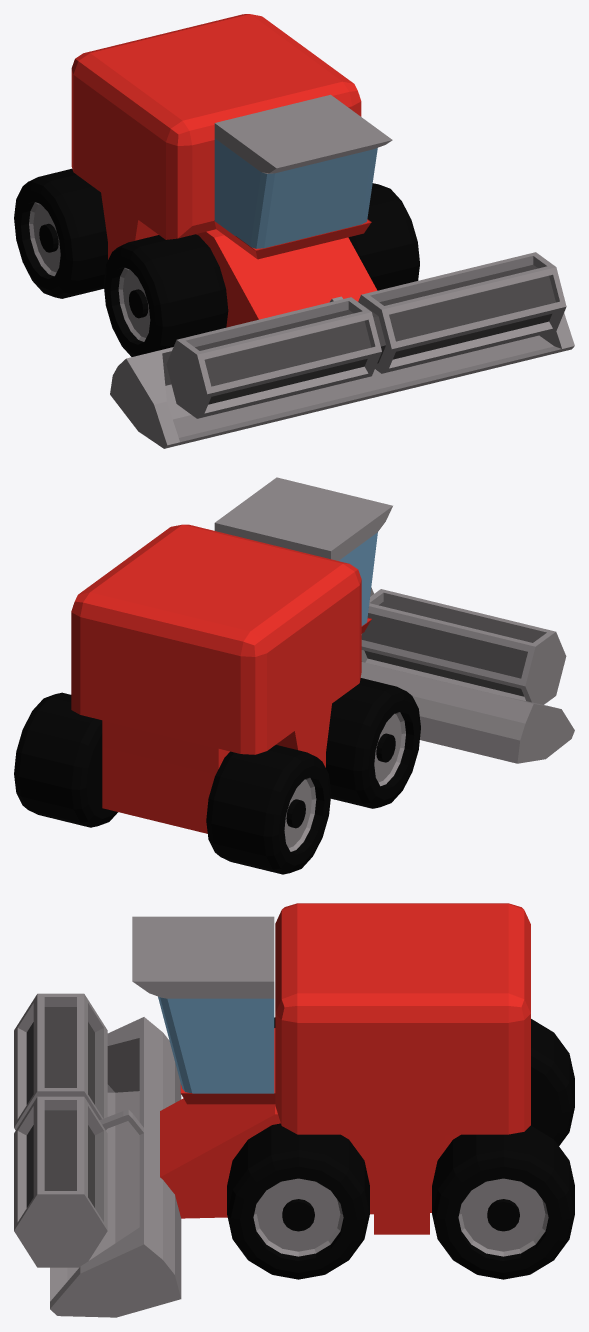
The model's file is combine.fbx.
3 views of the same model, one above another, from view 1: azimuth 30°, elevation 25°; view 2: azimuth 150°, elevation 25°; view 3: azimuth 270°, elevation 25° (orthographic). The views are drawn at different scales.
Visible parts, largest first — view 1: Body, shnek, wheel2, wheel4, wheel1; view 2: Body, shnek, wheel4, wheel2, wheel3; view 3: Body, shnek, wheel1, wheel3, wheel4.
Boxes of the visible parts, x1=… form: Body: x1=71, y1=14, x2=574, y2=448; shnek: x1=166, y1=252, x2=566, y2=418; wheel2: x1=103, y1=234, x2=228, y2=356; wheel4: x1=14, y1=168, x2=107, y2=298; wheel1: x1=348, y1=183, x2=419, y2=290; Body: x1=71, y1=477, x2=574, y2=833; shnek: x1=361, y1=587, x2=566, y2=704; wheel4: x1=206, y1=745, x2=331, y2=874; wheel2: x1=326, y1=678, x2=420, y2=808; wheel3: x1=14, y1=692, x2=117, y2=827; Body: x1=50, y1=903, x2=530, y2=1317; shnek: x1=14, y1=993, x2=107, y2=1267; wheel1: x1=227, y1=1123, x2=369, y2=1279; wheel3: x1=432, y1=1125, x2=574, y2=1279; wheel4: x1=531, y1=1019, x2=574, y2=1145.
Bounding box in the file's own units: 158 × 84.91 × 164.
